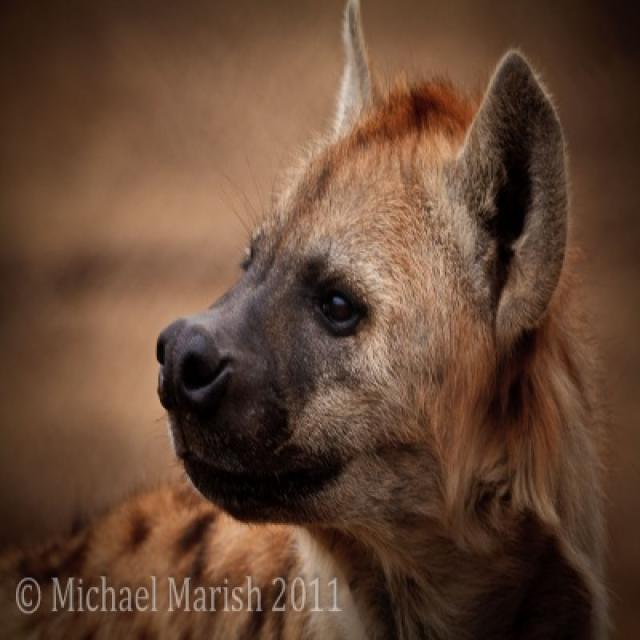hyena: (155, 0, 614, 638)
